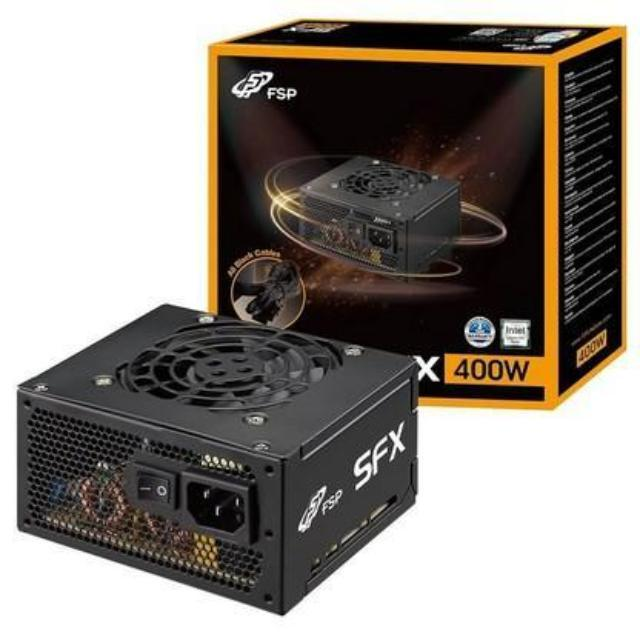PSU: (11, 298, 431, 620)
